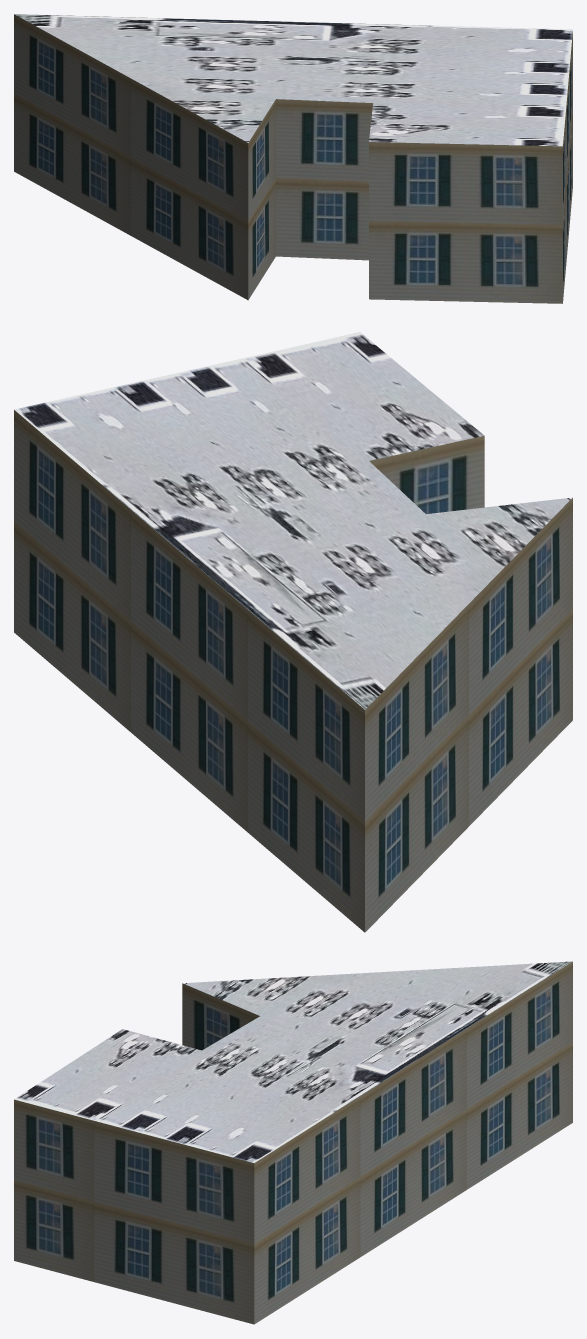
The model's file is ResTex__4671.fbx.
The picture shows the model from 3 angles, top to bottom: view 1: azimuth 30°, elevation 25°; view 2: azimuth 150°, elevation 25°; view 3: azimuth 270°, elevation 25°; orthographic projection. The views are drawn at different scales.
Visible parts, largest first — view 1: CityEngineMaterial_7_m, CityEngineMaterial_8_m; view 2: CityEngineMaterial_7_m, CityEngineMaterial_8_m; view 3: CityEngineMaterial_7_m, CityEngineMaterial_8_m.
Part boxes in pixels (<box>): CityEngineMaterial_7_m: <box>14,14,572,303</box>; CityEngineMaterial_8_m: <box>14,14,572,146</box>; CityEngineMaterial_7_m: <box>14,410,572,932</box>; CityEngineMaterial_8_m: <box>14,332,572,709</box>; CityEngineMaterial_7_m: <box>14,961,572,1324</box>; CityEngineMaterial_8_m: <box>14,961,572,1162</box>.
Size of the model in its own units: 16.09 by 6 by 18.84.
2 materials, 2 textured.
